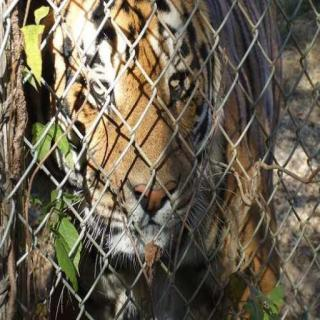Tiger: (20, 0, 285, 320)
